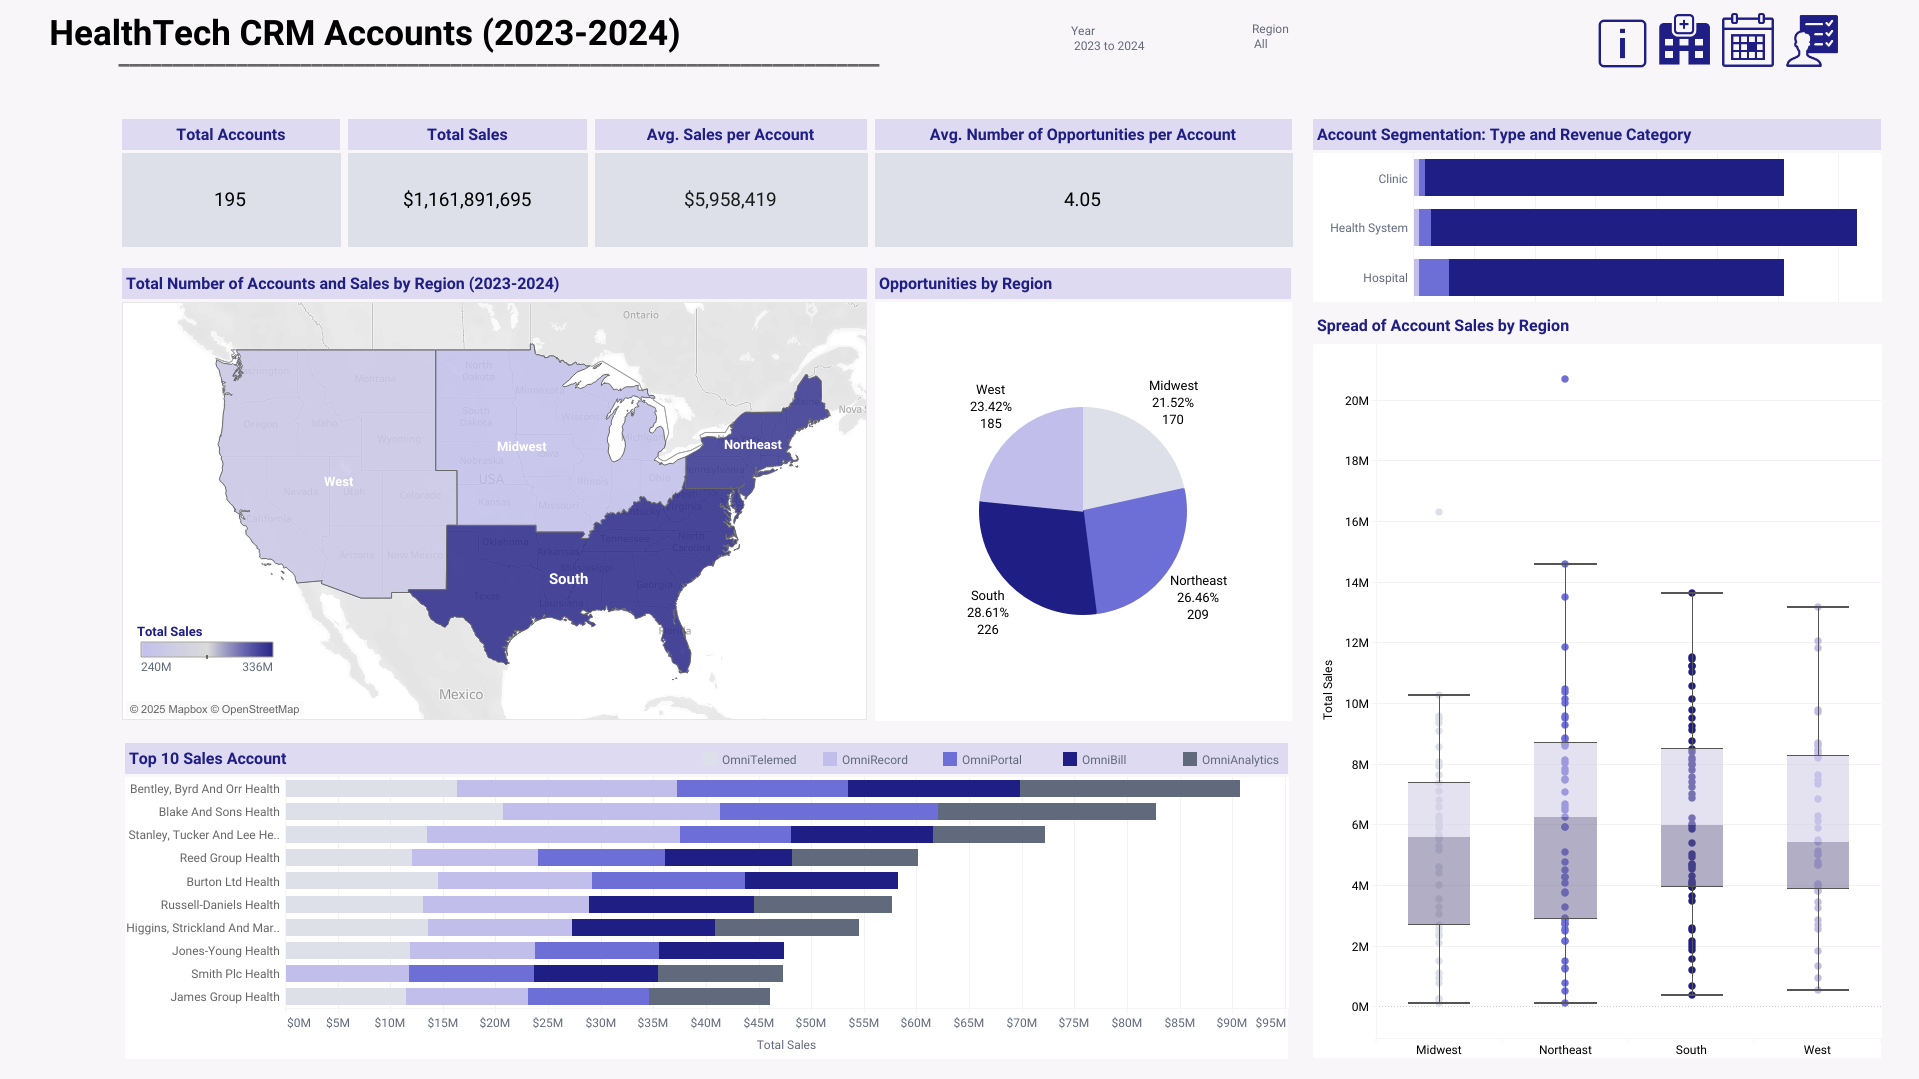

The page's visual inventory and layout, read from the dashboard file:
{"tool":"tableau","page":{"name":"A. Accounts","canvas":[1920,1080],"ordinal":0},"visuals":[{"type":"text","box":[8,8,1744,66]},{"type":"dashboard-object","box":[1652,9,64,64]},{"type":"dashboard-object","box":[1716,9,64,64]},{"type":"dashboard-object","box":[1780,9,64,64]},{"type":"image","param":"Image/icons8-info-squared-100.png","box":[1594,15,57,58]},{"type":"filter","title":"A/Total Number of Accounts and Sales by Region (2023-2024)","param":"[federated.1p3o68412q3mb515engqs1qx709h].[none:region:nk]","box":[1252,20,198,87]},{"type":"filter","title":"A/Account Segmentation: Type and Revenue Category","param":"[federated.1p3o68412q3mb515engqs1qx709h].[tyr:created_date:qk]","box":[1071,22,156,78]},{"type":"text","box":[116,26,964,59]},{"type":"worksheet","title":"A/Total Accounts","mark":"Automatic","box":[118,115,226,135]},{"type":"worksheet","title":"A/Total Sales","mark":"Automatic","box":[344,115,247,135]},{"type":"worksheet","title":"A/Avg. Sales Per Account","mark":"Automatic","box":[591,115,280,135]},{"type":"worksheet","title":"A/Avg. Number of Opportunities per Account","mark":"Automatic","box":[871,115,425,135]},{"type":"worksheet","title":"A/Account Segmentation: Type and Revenue Category","mark":"Automatic","rows":["type"],"cols":["account_id"],"box":[1309,115,576,191]},{"type":"worksheet","title":"A/Total Number of Accounts and Sales by Region (2023-2024)","mark":"Multipolygon","box":[118,264,753,460]},{"type":"worksheet","title":"A/Opportunities by Region","mark":"Pie","box":[871,264,424,460]},{"type":"worksheet","title":"A/Spread of Account Sales by Region","mark":"Circle","rows":["total_sales"],"cols":["region"],"box":[1309,306,576,756]},{"type":"legend","title":"A/Total Number of Accounts and Sales by Region (2023-2024)","param":"[federated.1p3o68412q3mb515engqs1qx709h].[sum:total_sales:qk]","box":[137,619,141,69]},{"type":"worksheet","title":"A/Top 10 Sales Account","mark":"Bar","rows":["name"],"cols":["total_sales"],"box":[121,739,1171,324]},{"type":"legend","title":"A/Top 10 Sales Account","param":"[federated.1p3o68412q3mb515engqs1qx709h].[none:product:nk]","box":[557,754,708,38]}]}

Visuals, with their boxes in screenshot pixels (x1, y1, x2, y2), scaled from the page's 1920x1080 canvas onto the 1919x1079 screenshot:
text: rect(8, 8, 1751, 74)
dashboard-object: rect(1651, 9, 1715, 73)
dashboard-object: rect(1715, 9, 1779, 73)
dashboard-object: rect(1779, 9, 1843, 73)
image: rect(1593, 15, 1650, 73)
"A/Total Number of Accounts and Sales by Region (2023-2024)" filter: rect(1251, 20, 1449, 107)
"A/Account Segmentation: Type and Revenue Category" filter: rect(1070, 22, 1226, 100)
text: rect(116, 26, 1079, 85)
"A/Total Accounts" worksheet: rect(118, 115, 344, 250)
"A/Total Sales" worksheet: rect(344, 115, 591, 250)
"A/Avg. Sales Per Account" worksheet: rect(591, 115, 871, 250)
"A/Avg. Number of Opportunities per Account" worksheet: rect(871, 115, 1295, 250)
"A/Account Segmentation: Type and Revenue Category" worksheet: rect(1308, 115, 1884, 306)
"A/Total Number of Accounts and Sales by Region (2023-2024)" worksheet (Multipolygon marks): rect(118, 264, 871, 723)
"A/Opportunities by Region" worksheet (Pie marks): rect(871, 264, 1294, 723)
"A/Spread of Account Sales by Region" worksheet (Circle marks): rect(1308, 306, 1884, 1061)
"A/Total Number of Accounts and Sales by Region (2023-2024)" legend: rect(137, 618, 278, 687)
"A/Top 10 Sales Account" worksheet (Bar marks): rect(121, 738, 1291, 1062)
"A/Top 10 Sales Account" legend: rect(557, 753, 1264, 791)
